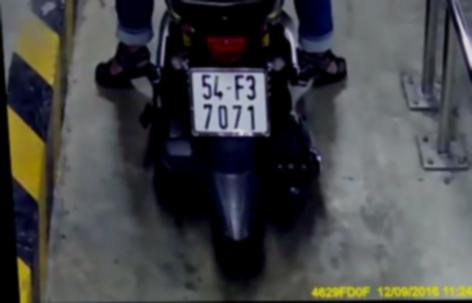License_Plate: (181, 61, 283, 141)
